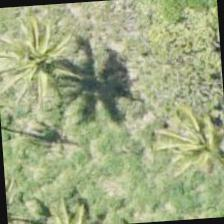Kelapa_Sawit: (0, 12, 85, 109), (162, 93, 223, 188)
